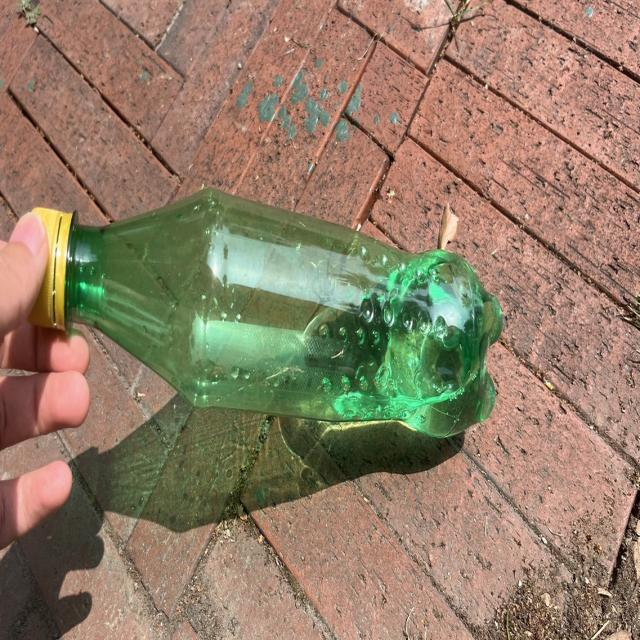low: (30, 188, 502, 437)
